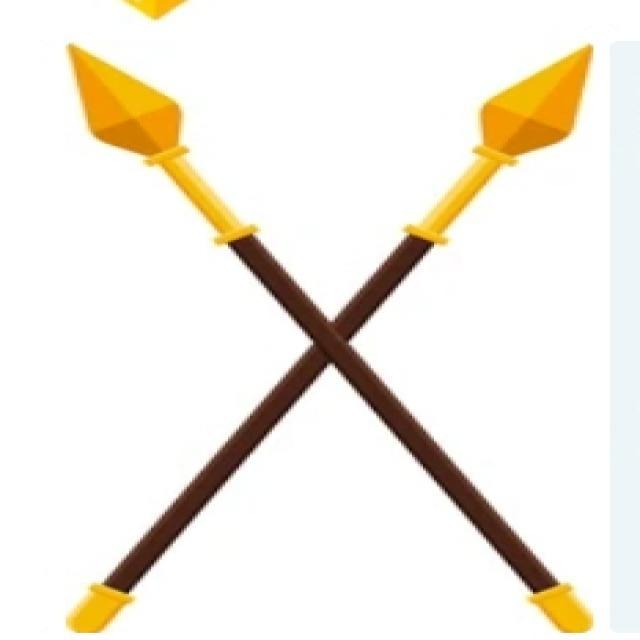spear: (15, 29, 613, 634)
